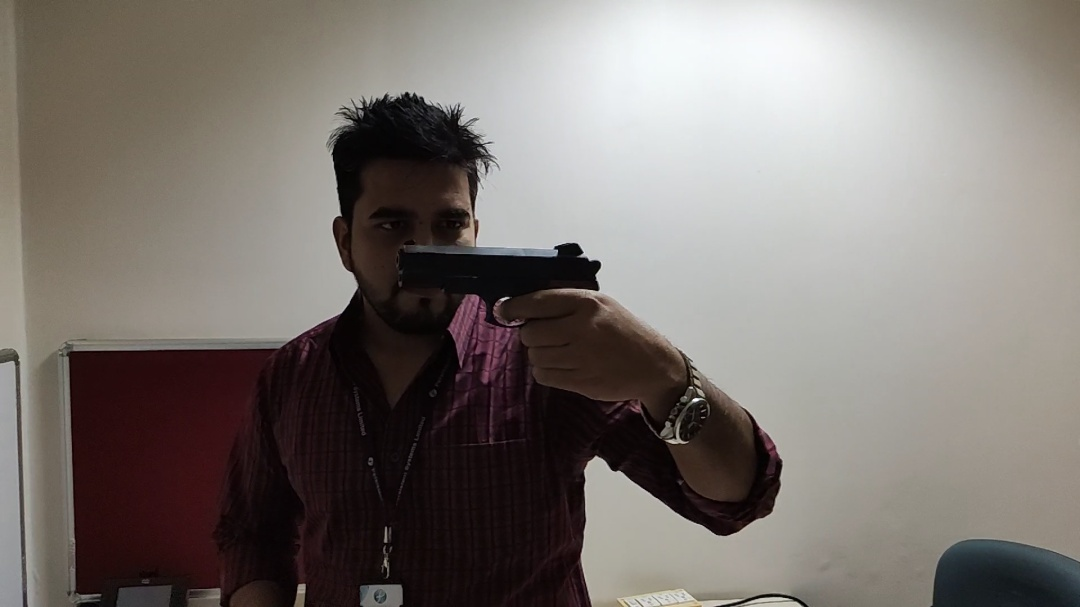gun: (399, 237, 614, 394)
